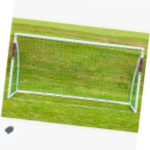goals: (6, 31, 147, 115)
